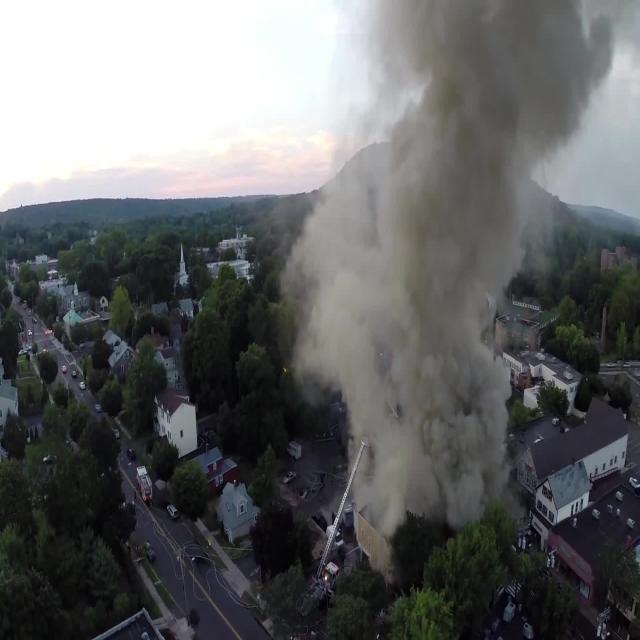smoke: (344, 0, 540, 502)
